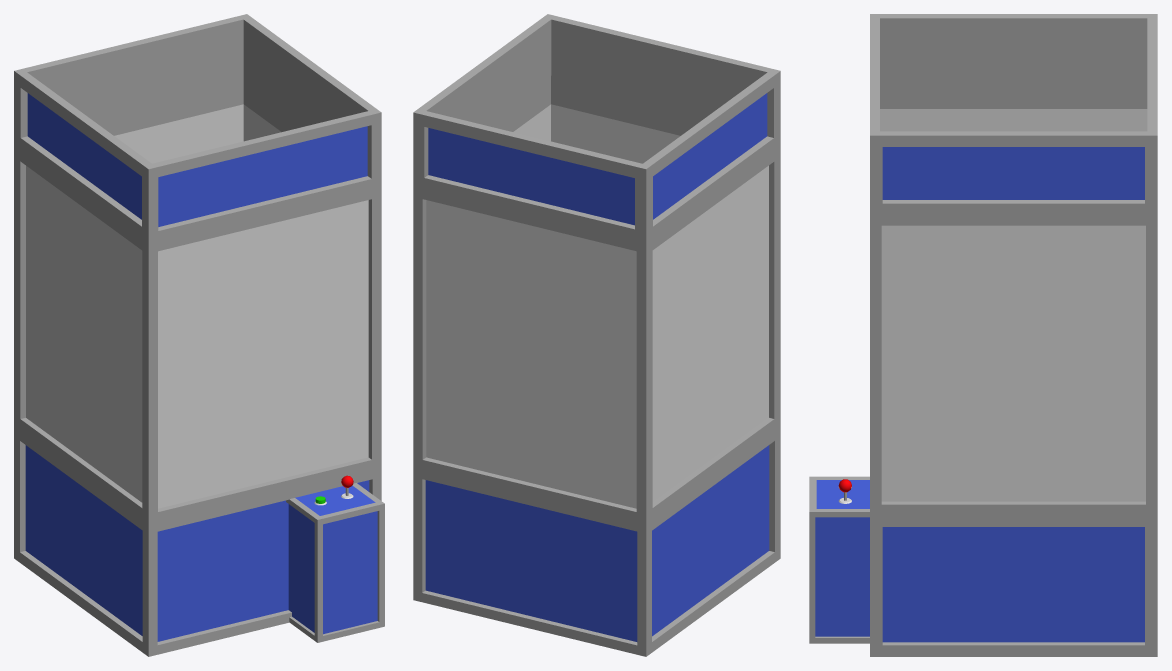
The model's file is Automate.fbx.
The picture shows the model from 3 angles, left to right: view 1: azimuth 30°, elevation 25°; view 2: azimuth 150°, elevation 25°; view 3: azimuth 270°, elevation 25°; orthographic projection. The views are drawn at different scales.
Visible parts, largest first — view 1: Glass, Metall, Manipulator; view 2: Glass, Metall, Manipulator; view 3: Glass, Metall, Manipulator.
Boxes of the visible parts, box(x1,y1,x2,y2) form: Glass: box(26, 104, 368, 508); Metall: box(14, 14, 384, 656); Manipulator: box(25, 93, 377, 641); Glass: box(426, 104, 768, 508); Metall: box(413, 14, 780, 656); Manipulator: box(425, 93, 769, 641); Glass: box(880, 109, 1147, 501); Metall: box(809, 14, 1157, 656); Manipulator: box(815, 147, 1144, 642).
Size of the model in its own units: 300 by 600 by 363.
